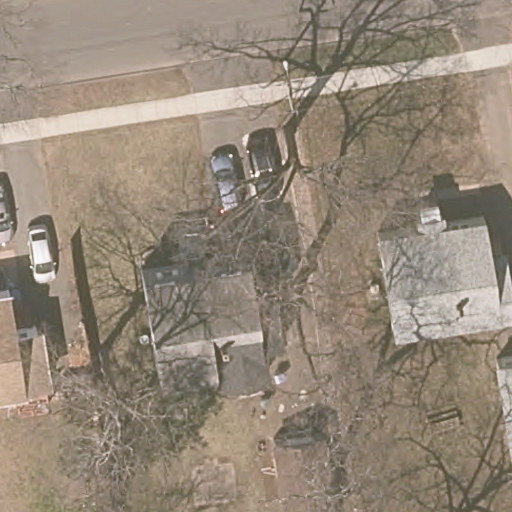DT: (277, 55, 306, 118)
